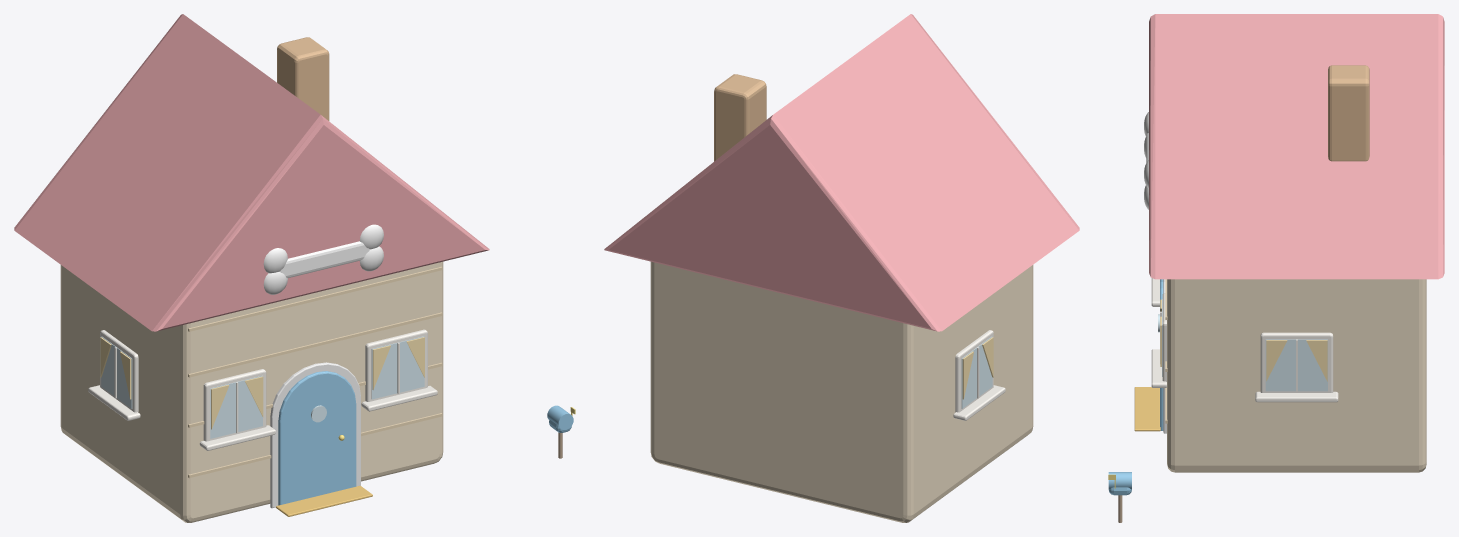
Rendered from building_pets_L06.glb.
3 renders of one model, left to right at view 1: azimuth 30°, elevation 25°; view 2: azimuth 150°, elevation 25°; view 3: azimuth 270°, elevation 25°, orthographic. The views are drawn at different scales.
Visible parts, largest first — view 1: Body, pets_L6; view 2: Body; view 3: Body, pets_L6.
Boxes of the visible parts, x1=… form: Body: x1=14, y1=14, x2=489, y2=522; pets_L6: x1=547, y1=405, x2=575, y2=458; Body: x1=604, y1=14, x2=1079, y2=522; Body: x1=1134, y1=14, x2=1444, y2=472; pets_L6: x1=1108, y1=472, x2=1131, y2=522.
Bounding box in the file's own units: 18.35 × 16.91 × 12.97.
